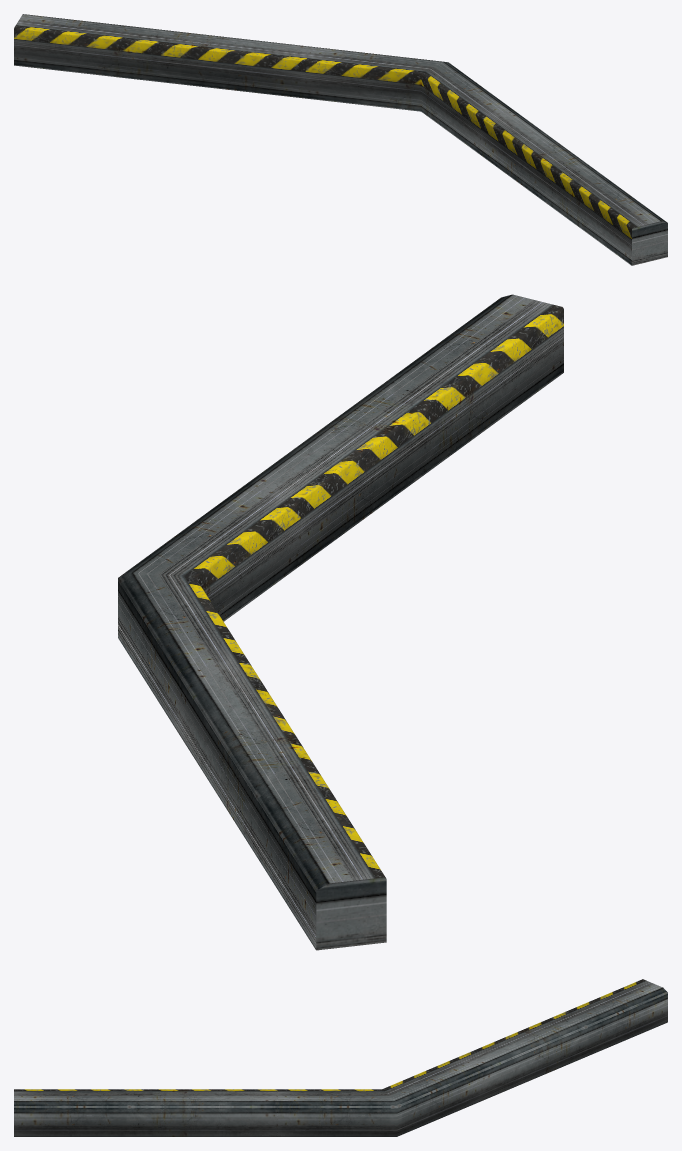
Rendered from Edges_06.fbx.
The picture shows the model from 3 angles, top to bottom: view 1: azimuth 30°, elevation 25°; view 2: azimuth 150°, elevation 25°; view 3: azimuth 270°, elevation 25°; orthographic projection. The views are drawn at different scales.
Visible parts, largest first — view 1: Edges_06; view 2: Edges_06; view 3: Edges_06.
Part boxes in pixels (bbox=[...]): Edges_06: bbox=[14, 14, 667, 265]; Edges_06: bbox=[118, 294, 563, 950]; Edges_06: bbox=[14, 979, 667, 1136].
Bounding box in the file's own units: 225 × 27.46 × 496.
Materials: 1 (1 with a texture image).
